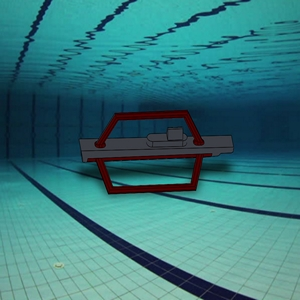submarine: (68, 98, 248, 211)
